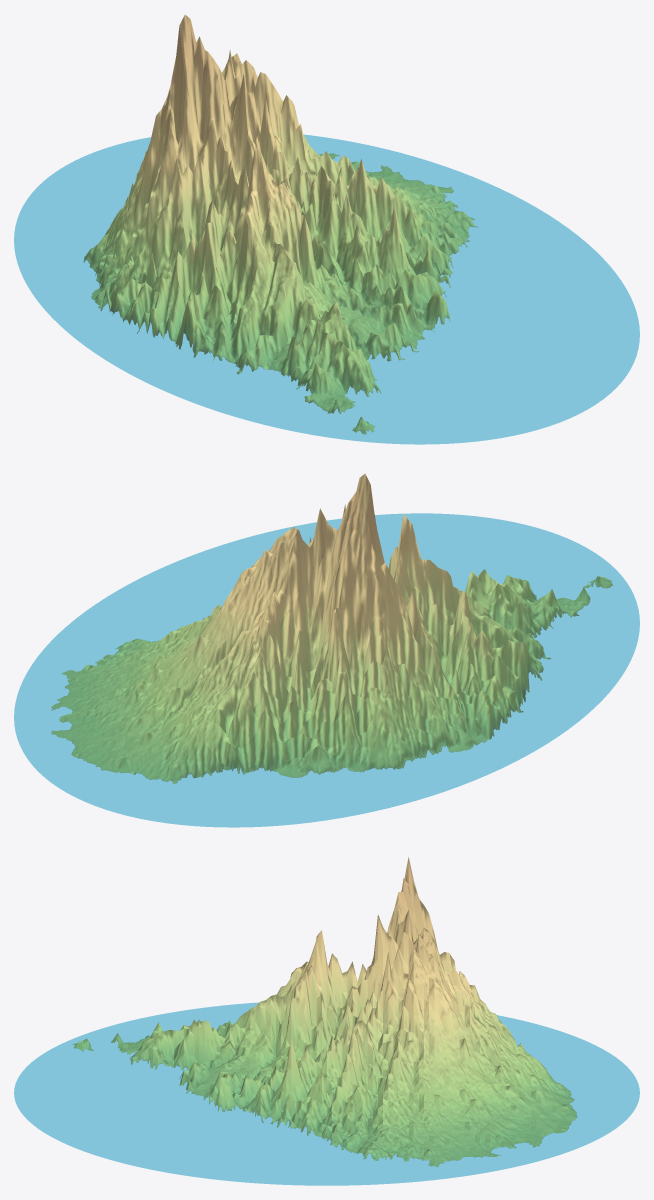
File: STP-terrain.glb
3 views of the same model, one above another, from view 1: azimuth 30°, elevation 25°; view 2: azimuth 150°, elevation 25°; view 3: azimuth 270°, elevation 25° (orthographic). The views are drawn at different scales.
Parts seen in each view (by area): view 1: Relevo com hidrografia; view 2: Relevo com hidrografia; view 3: Relevo com hidrografia.
Boxes of the visible parts, x1,y1,x2,y2 form: Relevo com hidrografia: (14,14,639,444); Relevo com hidrografia: (14,473,639,827); Relevo com hidrografia: (14,857,639,1185).
Bounding box in the file's own units: 1.4 × 0.7093 × 1.99.
Materials: 2 (1 with a texture image).
